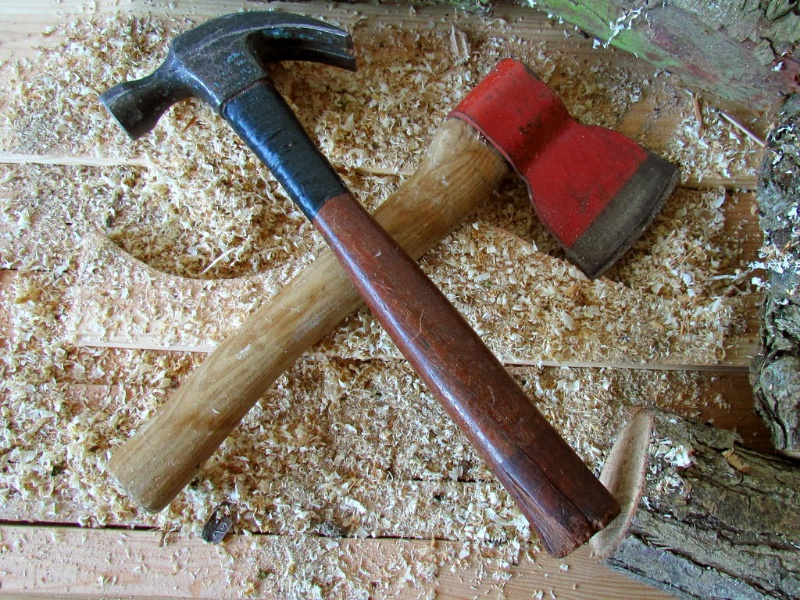axe: (431, 47, 687, 285)
